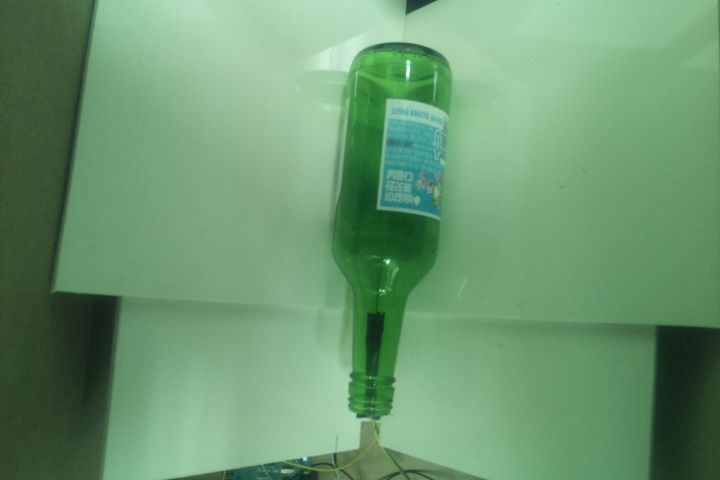soju: (329, 41, 453, 418)
